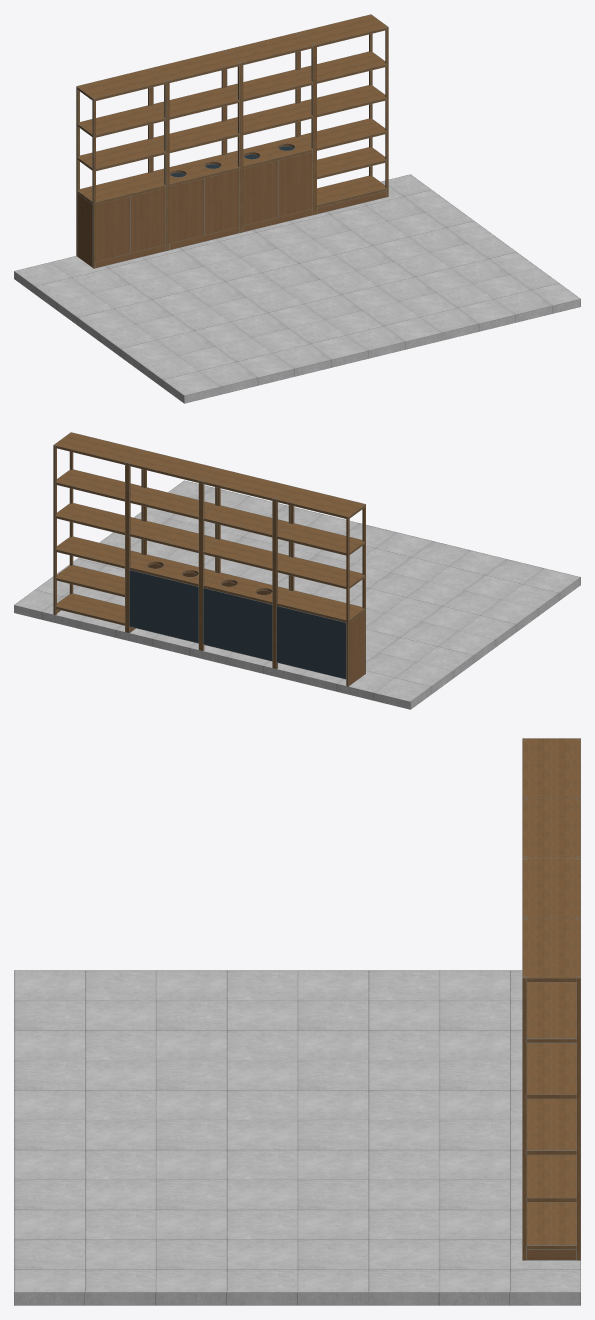
The model's file is modell.glb.
3 renders of one model, top to bottom at view 1: azimuth 30°, elevation 25°; view 2: azimuth 150°, elevation 25°; view 3: azimuth 270°, elevation 25°, orthographic. The views are drawn at different scales.
Size of the model in its own units: 5383 by 2303 by 4003.
Materials: 7 (5 with a texture image).
